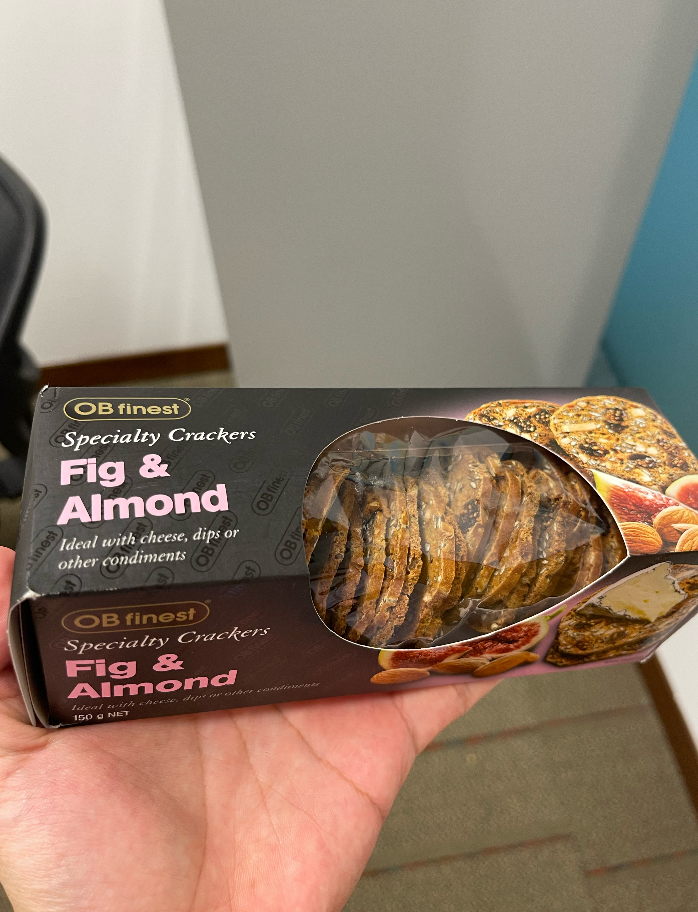crackers_100g-199g: (51, 390, 667, 699)
